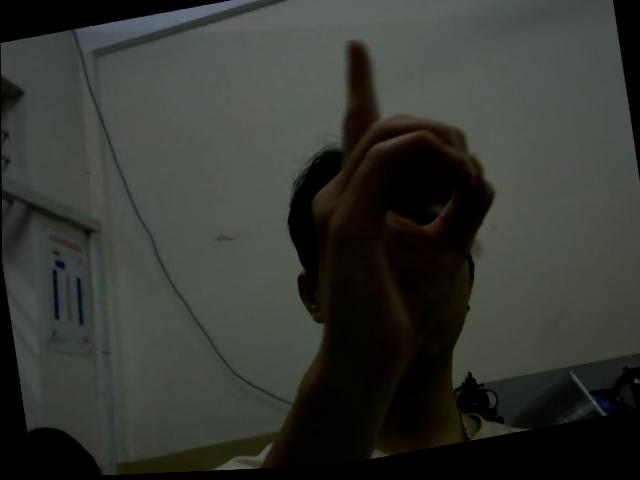D: (280, 20, 518, 381)
